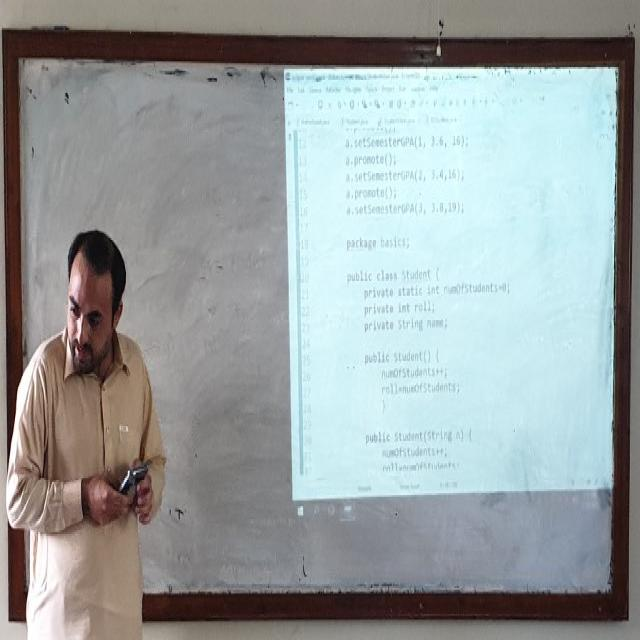Instructor: (15, 233, 152, 617)
Slide: (284, 59, 619, 527)
White-board: (10, 41, 627, 612)
